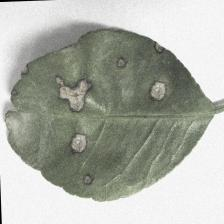canker: (34, 60, 178, 156)
